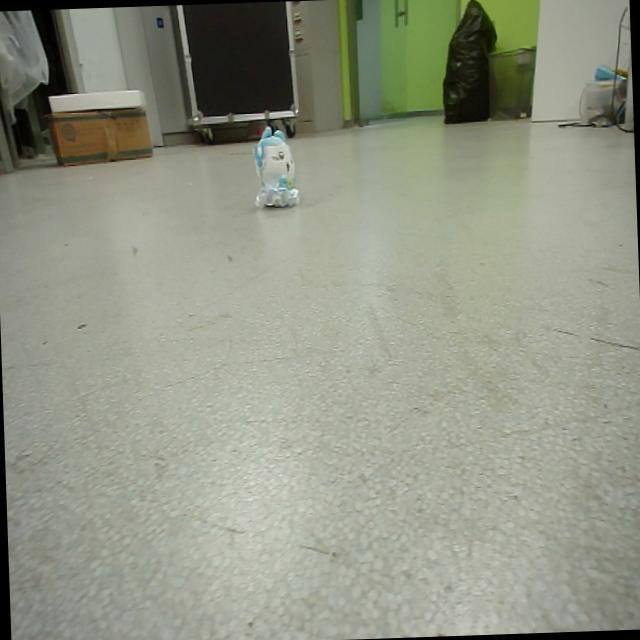xiaoba: (252, 124, 304, 212)
